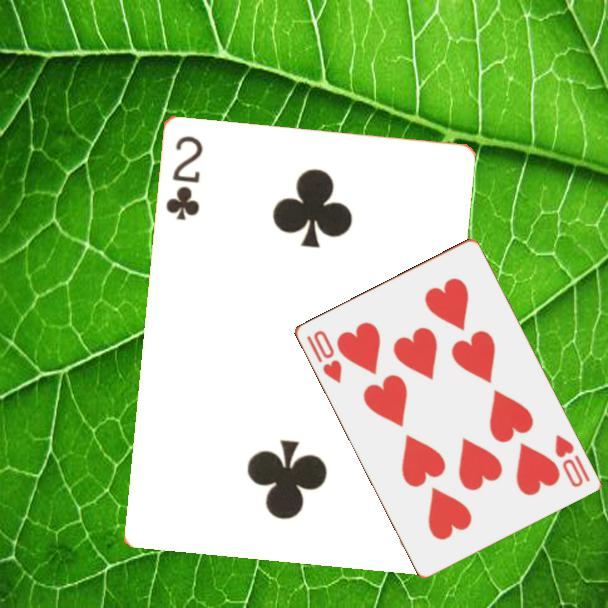c02: (162, 131, 206, 223)
h10: (551, 431, 593, 490), (303, 326, 344, 386)
